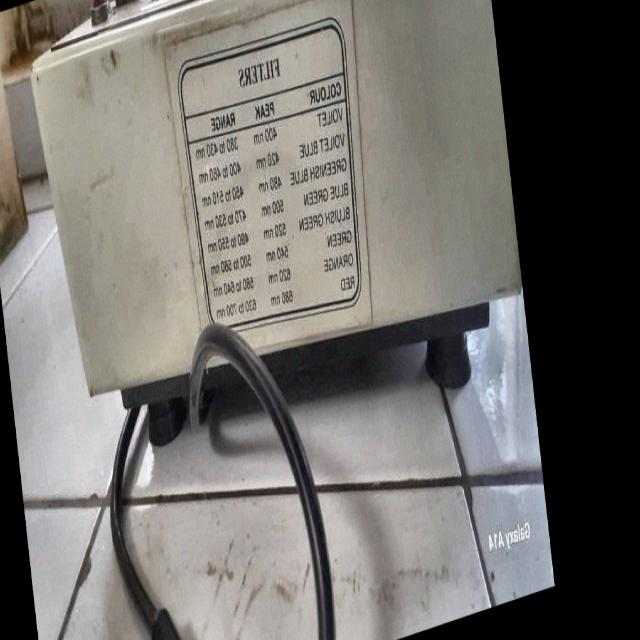Photocolorimeter: (27, 0, 496, 435)
